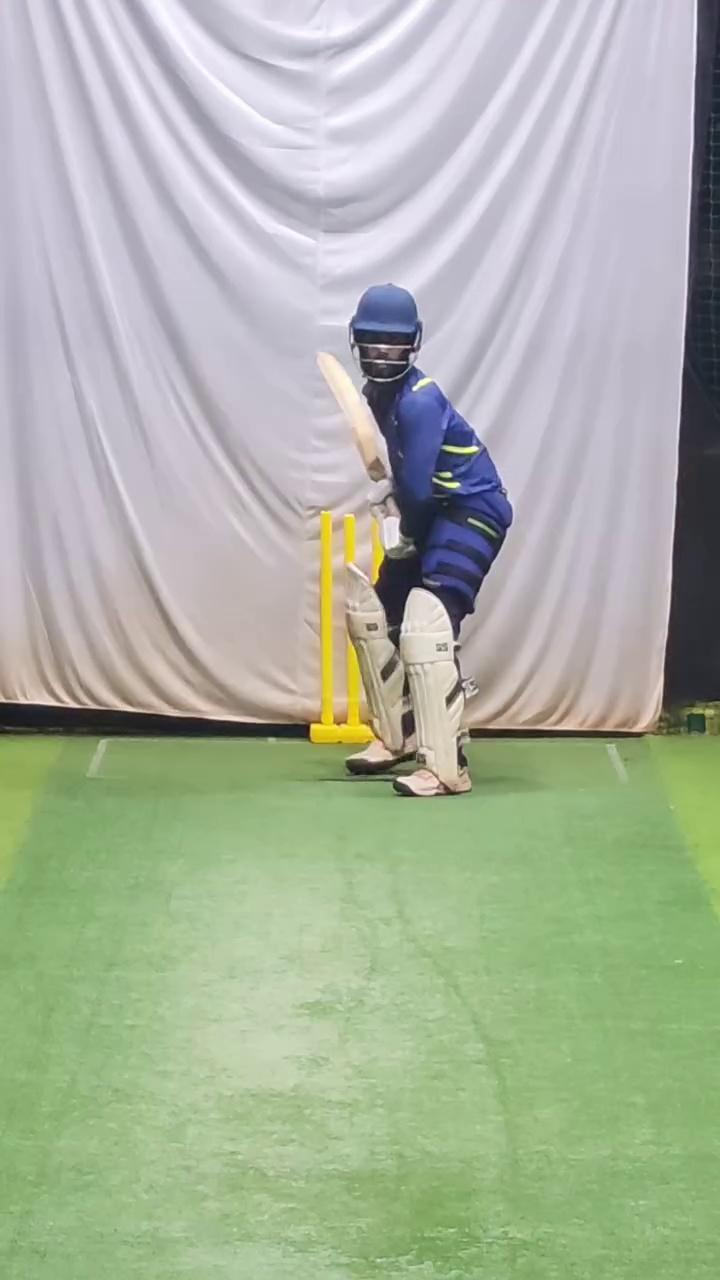bat: (311, 342, 390, 489)
